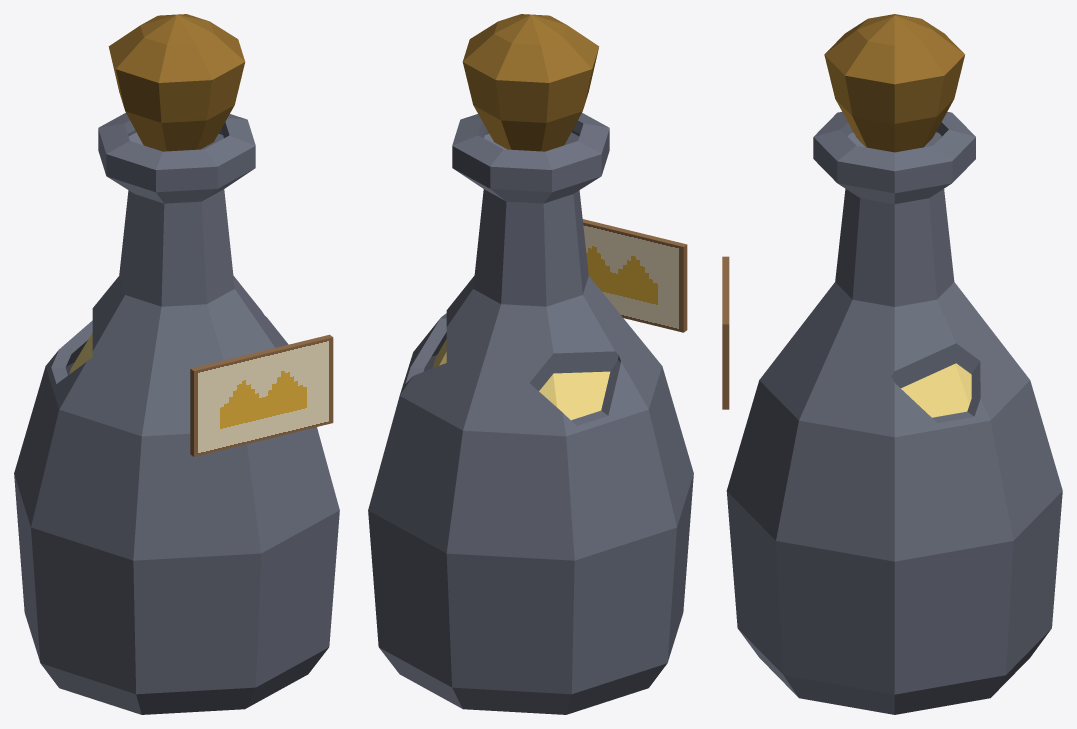
The model's file is elixir.obj.
3 views of the same model, side by side, from view 1: azimuth 30°, elevation 25°; view 2: azimuth 150°, elevation 25°; view 3: azimuth 270°, elevation 25° (orthographic).
Visible parts, largest first — view 1: A_Flask.001_elixir_glass, S_Crown.001_elixir_brass, C_Label.001_elixir_label; view 2: A_Flask.001_elixir_glass, S_Crown.001_elixir_brass, C_Label.001_elixir_label, A_Liquid.001_elixir_liquid; view 3: A_Flask.001_elixir_glass, S_Crown.001_elixir_brass, A_Liquid.001_elixir_liquid, C_Label.001_elixir_label.
Part boxes in pixels (x1,y1,x2,y2): A_Flask.001_elixir_glass: (14,113,339,714); S_Crown.001_elixir_brass: (108,14,245,151); C_Label.001_elixir_label: (190,334,333,456); A_Flask.001_elixir_glass: (368,113,693,714); S_Crown.001_elixir_brass: (462,14,599,151); C_Label.001_elixir_label: (582,219,687,332); A_Liquid.001_elixir_liquid: (432,339,610,420); A_Flask.001_elixir_glass: (726,112,1062,714); S_Crown.001_elixir_brass: (824,14,964,152); A_Liquid.001_elixir_liquid: (901,363,971,417); C_Label.001_elixir_label: (722,256,729,409).
Bounding box in the file's own units: 1.43 × 3.01 × 1.45.
Materials: 4 (1 with a texture image).
